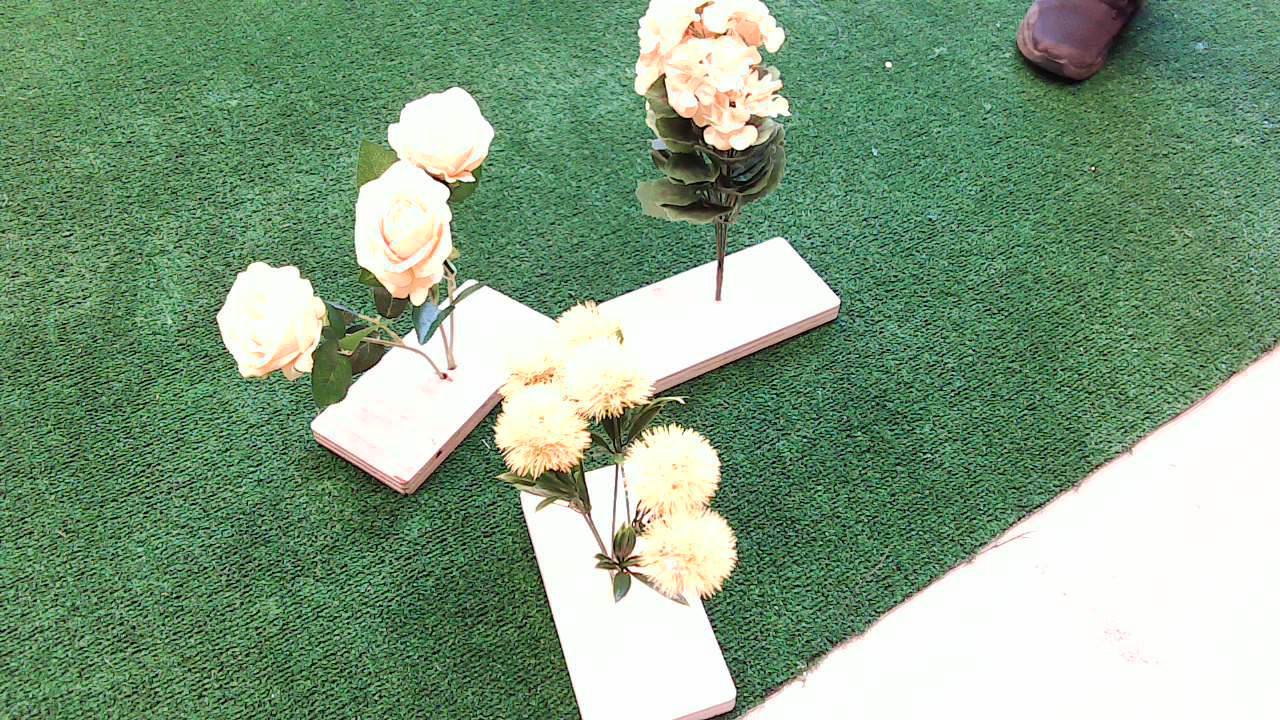dandelion: (494, 297, 747, 622)
geranium: (590, 4, 831, 230)
rose: (198, 85, 502, 392)
